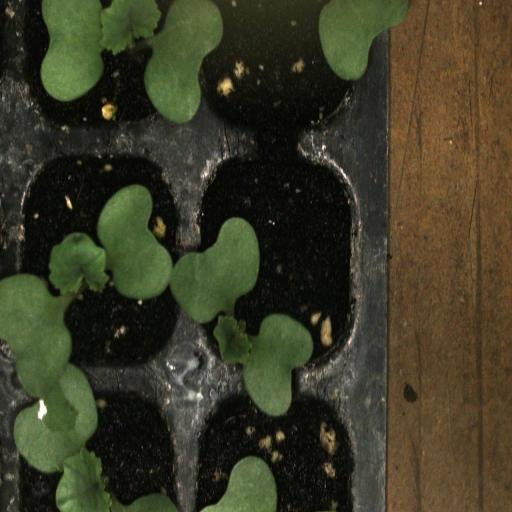Folha: (310, 0, 408, 81), (201, 455, 277, 512)
Germinacao: (11, 136, 194, 386), (192, 140, 373, 376), (14, 0, 194, 141), (14, 372, 194, 512)
